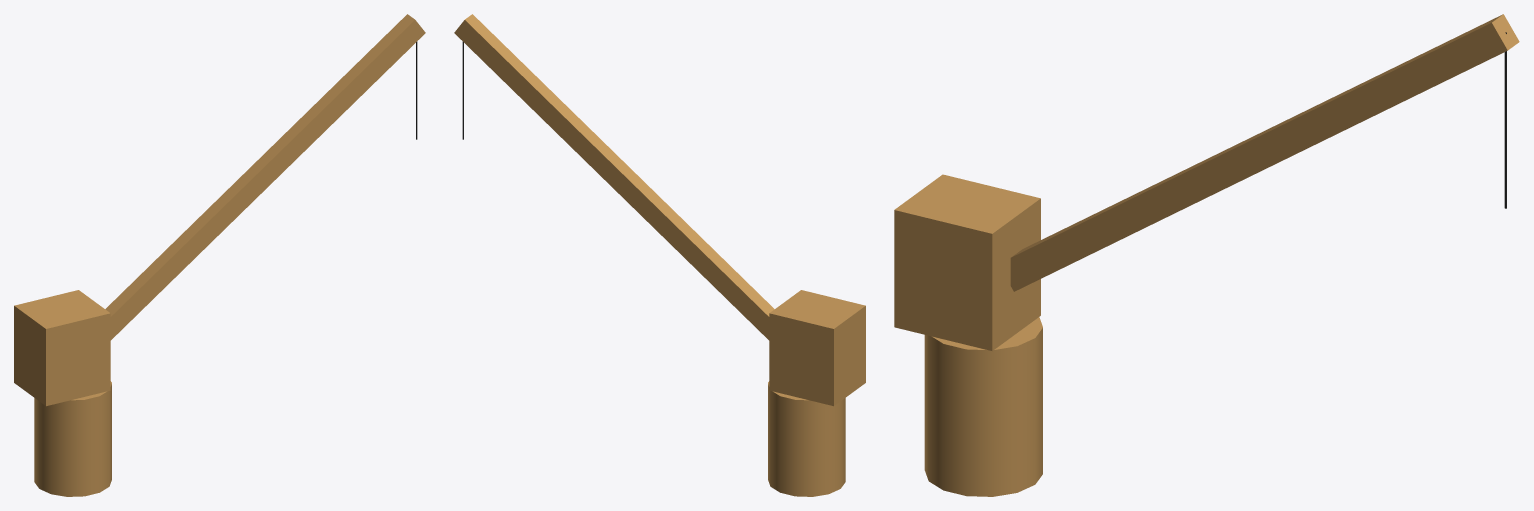
The model's file is parametric-crane-service.glb.
3 renders of one model, left to right at view 1: azimuth 30°, elevation 25°; view 2: azimuth 150°, elevation 25°; view 3: azimuth 330°, elevation 25°, orthographic. The views are drawn at different scales.
Parts seen in each view (by area): view 1: parametric-crane-service; view 2: parametric-crane-service; view 3: parametric-crane-service.
Boxes of the visible parts, <box> form: parametric-crane-service: <box>14,14,425,496</box>; parametric-crane-service: <box>454,14,865,496</box>; parametric-crane-service: <box>894,14,1519,496</box>.
Size of the model in its own units: 6.37 by 5.92 by 1.07.
